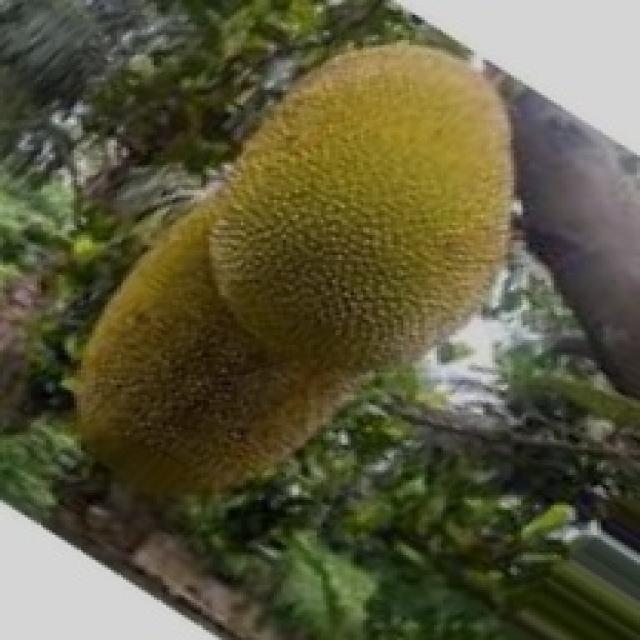Fruit: (172, 7, 566, 405), (28, 210, 394, 545)
